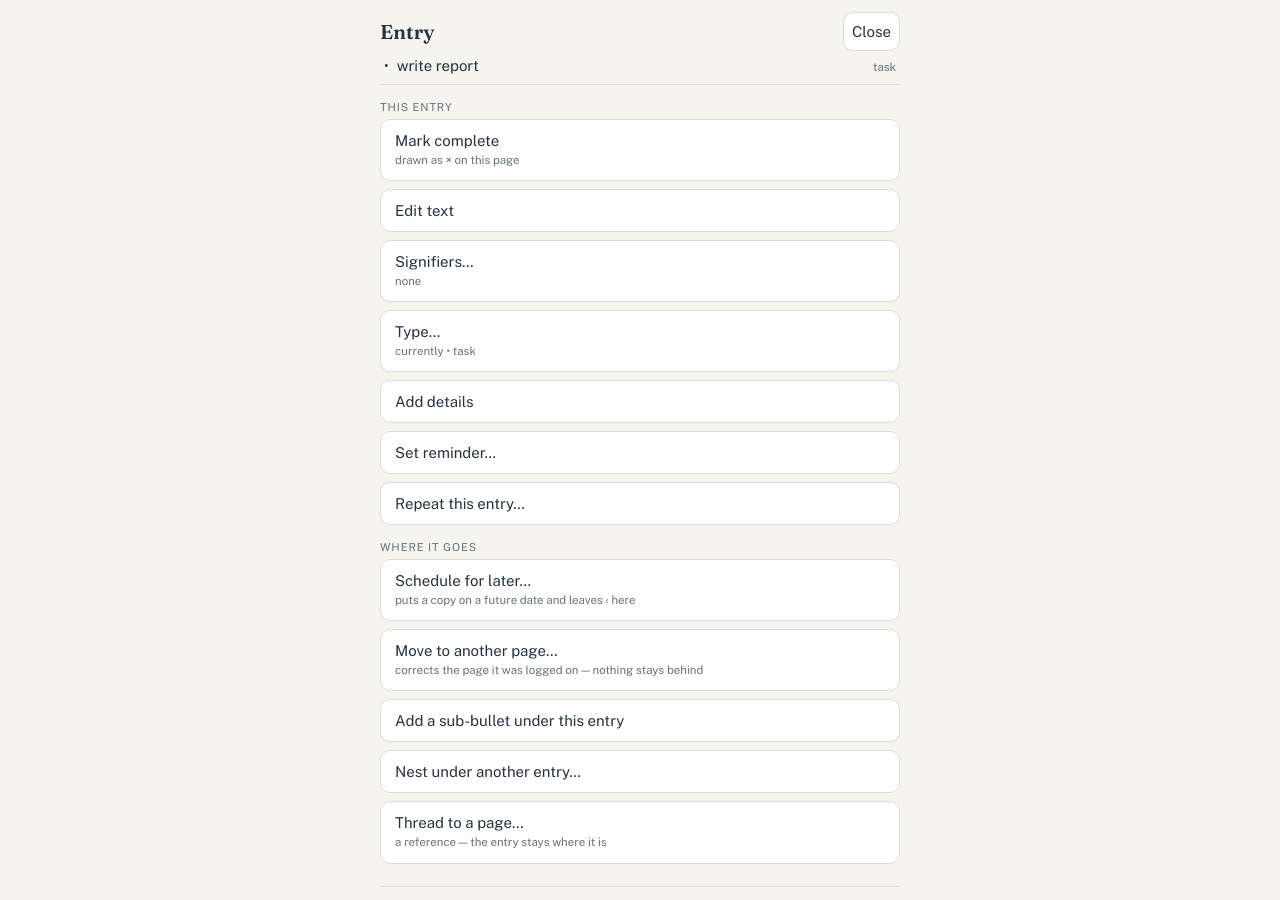
Test: nesting › a candidate's real state is shown and named, not disguised as open
Click the button "Nest under another entry…": (488, 772) [380,750,900,794]
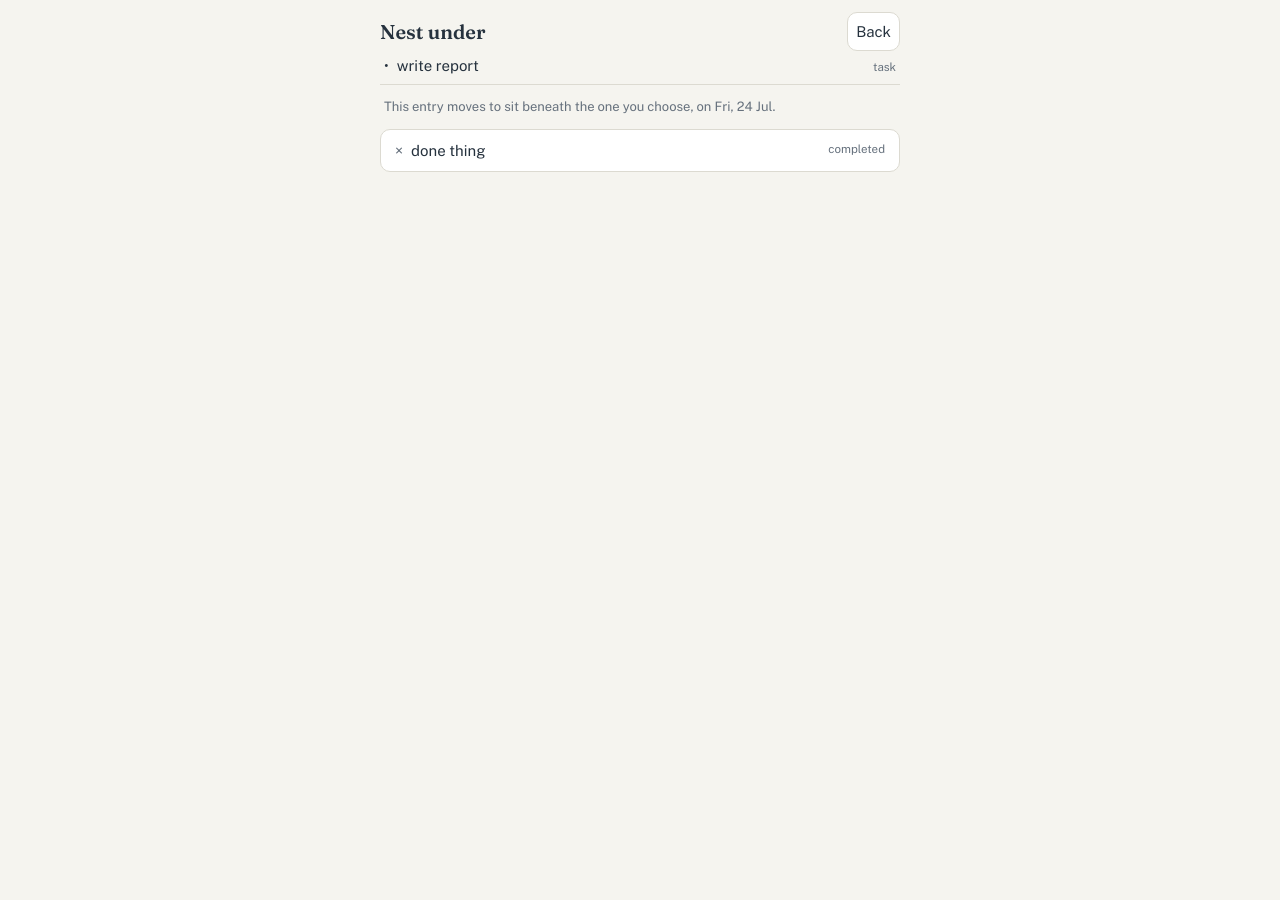
Expected: the text "×" is shown, [395,142,403,159]
Expected: the button with aria-label "Nest under done thing, done" is shown, [380,129,900,172]
Expected: the text "completed" is shown, [828,142,885,156]
